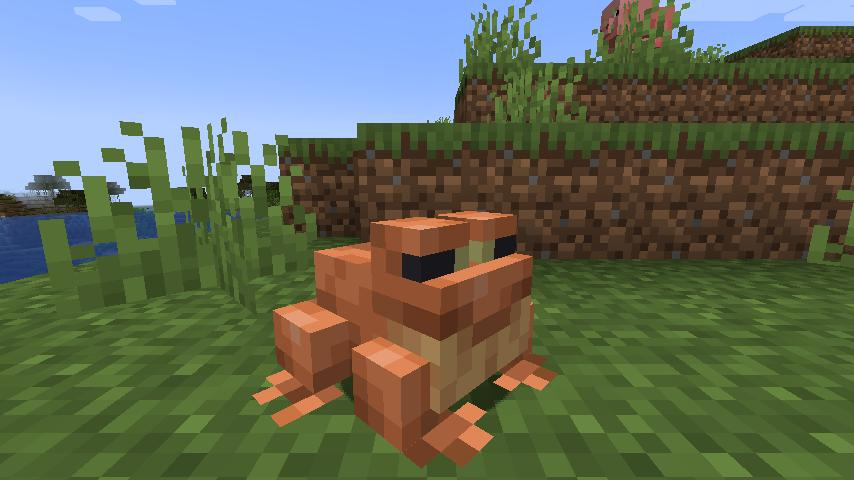frog: (247, 200, 563, 477)
pig: (596, 0, 683, 62)
